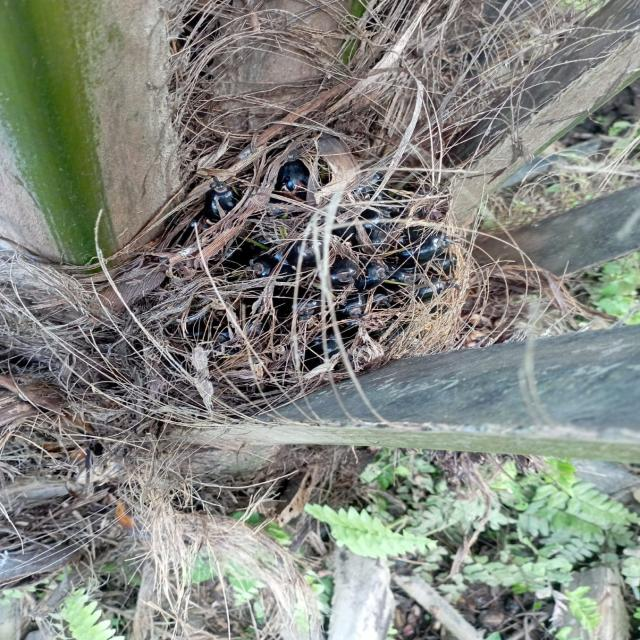fraksi 00: (48, 93, 613, 471)
